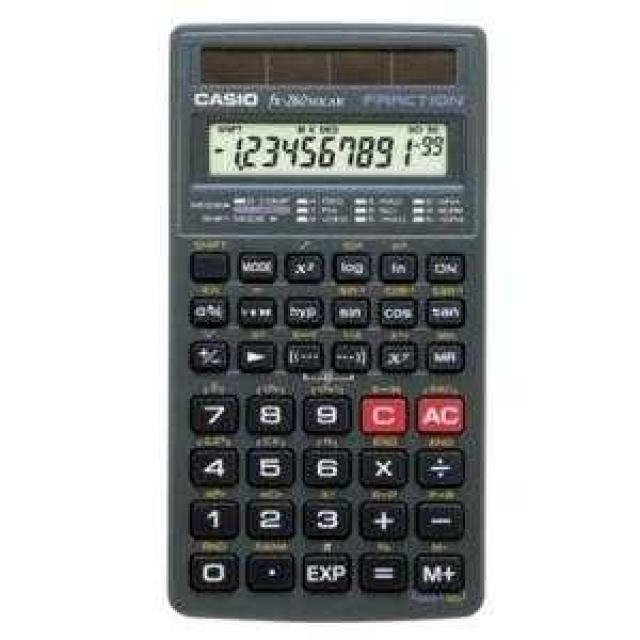Calculator: (171, 23, 482, 619)
